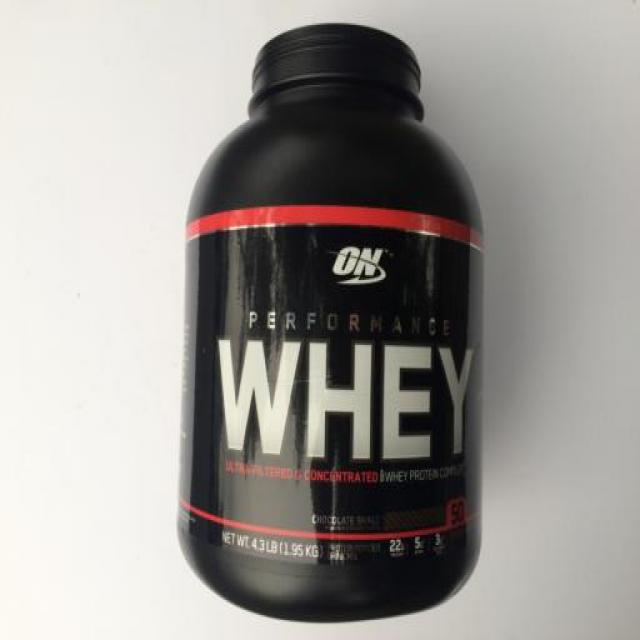plastic_bottle: (110, 10, 551, 611)
